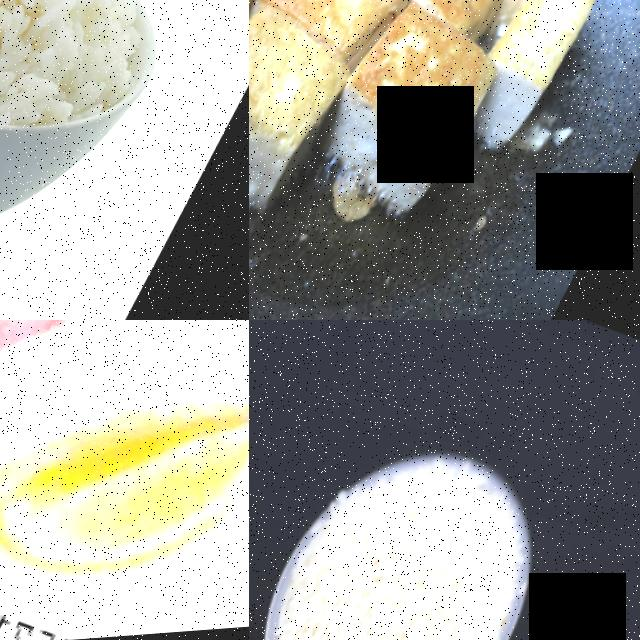lemon: (0, 320, 249, 640)
tofu: (299, 0, 531, 240), (249, 0, 373, 231), (474, 0, 618, 148)
white rice: (249, 418, 582, 640), (0, 0, 193, 153)
